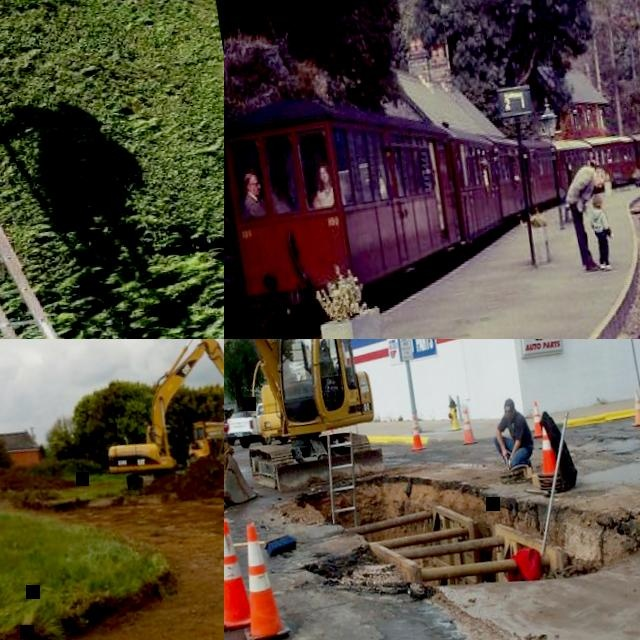NO-Hardhat: (504, 396, 516, 412), (593, 193, 605, 207), (317, 163, 331, 174), (242, 171, 257, 181), (597, 168, 606, 184)
NO-Mask: (249, 183, 263, 195), (593, 175, 602, 188), (321, 173, 331, 184), (601, 203, 606, 209)
NO-Safety Vest: (567, 166, 598, 206), (504, 415, 530, 450), (591, 207, 610, 233), (246, 194, 267, 217), (316, 186, 335, 208)
Person: (560, 162, 619, 275), (488, 392, 538, 473), (587, 192, 620, 272), (307, 163, 337, 210), (241, 172, 269, 220)
Safety Cone: (230, 518, 294, 640), (224, 516, 256, 630), (531, 425, 565, 492), (458, 406, 480, 446), (407, 414, 427, 452), (527, 401, 546, 439), (628, 388, 640, 428)
machinery: (224, 339, 390, 511), (88, 339, 224, 506)
vehicle: (225, 402, 273, 450), (224, 410, 254, 446)
